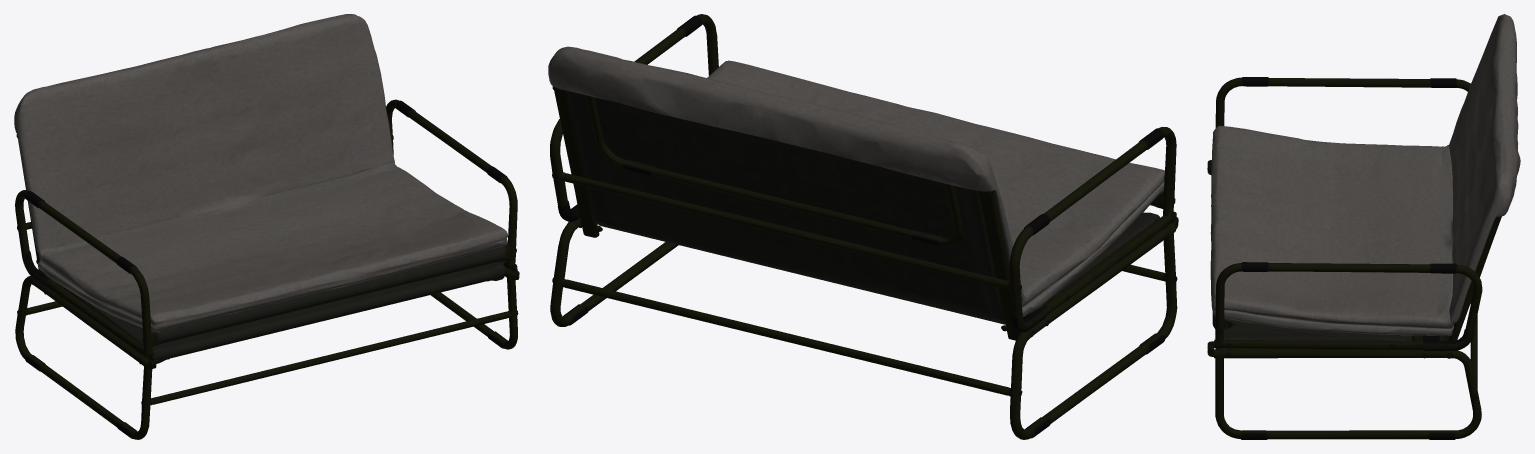
File: hammarn_sofa_rozkadana_90354327.glb
3 views of the same model, side by side, from view 1: azimuth 30°, elevation 25°; view 2: azimuth 150°, elevation 25°; view 3: azimuth 270°, elevation 25° (orthographic). The views are drawn at different scales.
Visible parts, largest first — view 1: hammarn_sofa_rozkadana_90354327; view 2: hammarn_sofa_rozkadana_90354327; view 3: hammarn_sofa_rozkadana_90354327.
Boxes of the visible parts, <box> form: hammarn_sofa_rozkadana_90354327: <box>14,14,519,439</box>; hammarn_sofa_rozkadana_90354327: <box>548,14,1178,439</box>; hammarn_sofa_rozkadana_90354327: <box>1207,14,1520,439</box>.
Size of the model in its own units: 1.28 by 0.8005 by 0.8957.
Materials: 1 (1 with a texture image).
